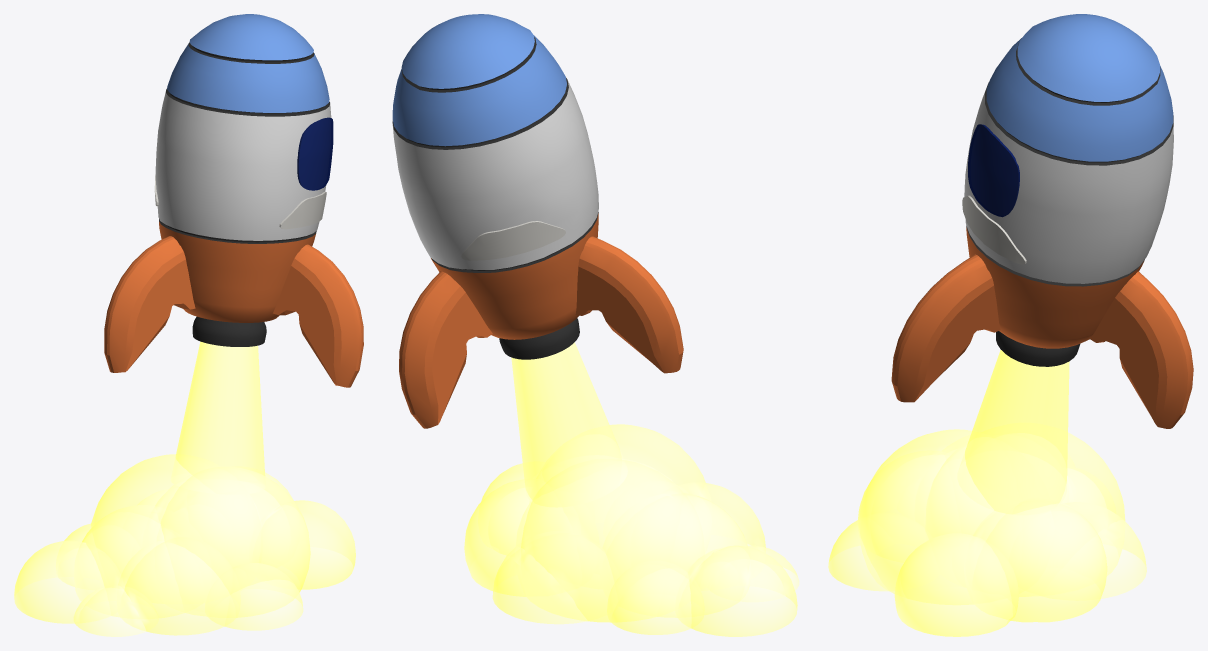
The picture shows the model from 3 angles, left to right: view 1: azimuth 30°, elevation 25°; view 2: azimuth 150°, elevation 25°; view 3: azimuth 270°, elevation 25°; orthographic projection. The views are drawn at different scales.
Parts seen in each view (by area): view 1: object 6, Body_8, Legs_3, Plan_4, Reactor_5, Window_7; view 2: object 6, Body_8, Legs_3, Window_7, Reactor_5; view 3: object 6, Body_8, Legs_3, Plan_4, Window_7, Reactor_5.
Boxes of the visible parts, box(x1,y1,x2,y2) form: object 6: box(14, 341, 355, 636); Body_8: box(155, 14, 331, 322); Legs_3: box(104, 236, 363, 387); Plan_4: box(297, 117, 333, 190); Reactor_5: box(192, 316, 266, 346); Window_7: box(154, 174, 326, 229); object 6: box(464, 342, 799, 636); Body_8: box(392, 14, 598, 339); Legs_3: box(399, 236, 683, 428); Window_7: box(461, 221, 565, 260); Reactor_5: box(499, 318, 579, 359); object 6: box(828, 350, 1146, 636); Body_8: box(964, 14, 1173, 348); Legs_3: box(891, 254, 1193, 428); Plan_4: box(968, 124, 1019, 217); Window_7: box(962, 195, 1026, 264); Reactor_5: box(996, 331, 1080, 366).
Size of what is drawn, in the model's own units: 4 by 5.98 by 3.36.
